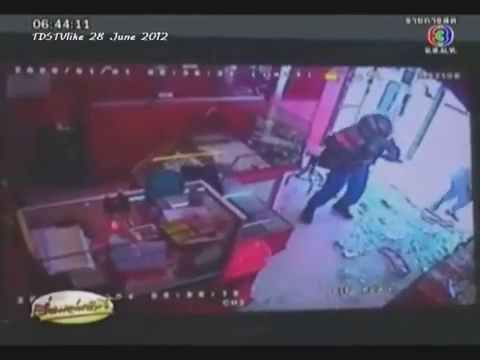helmet: (355, 114, 394, 137)
